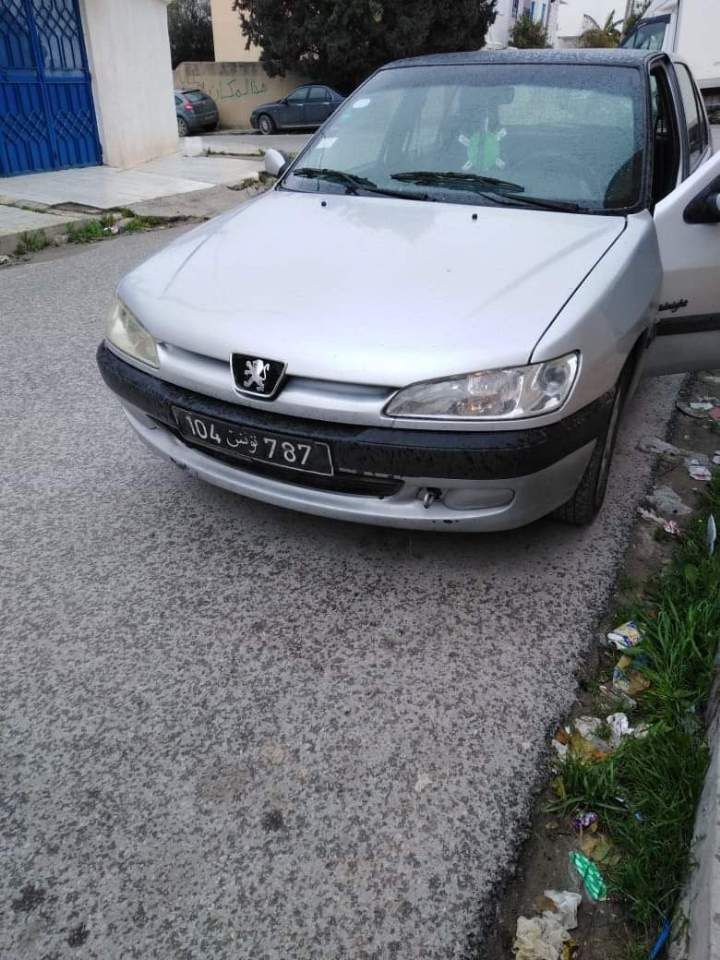LP: (171, 405, 332, 478)
